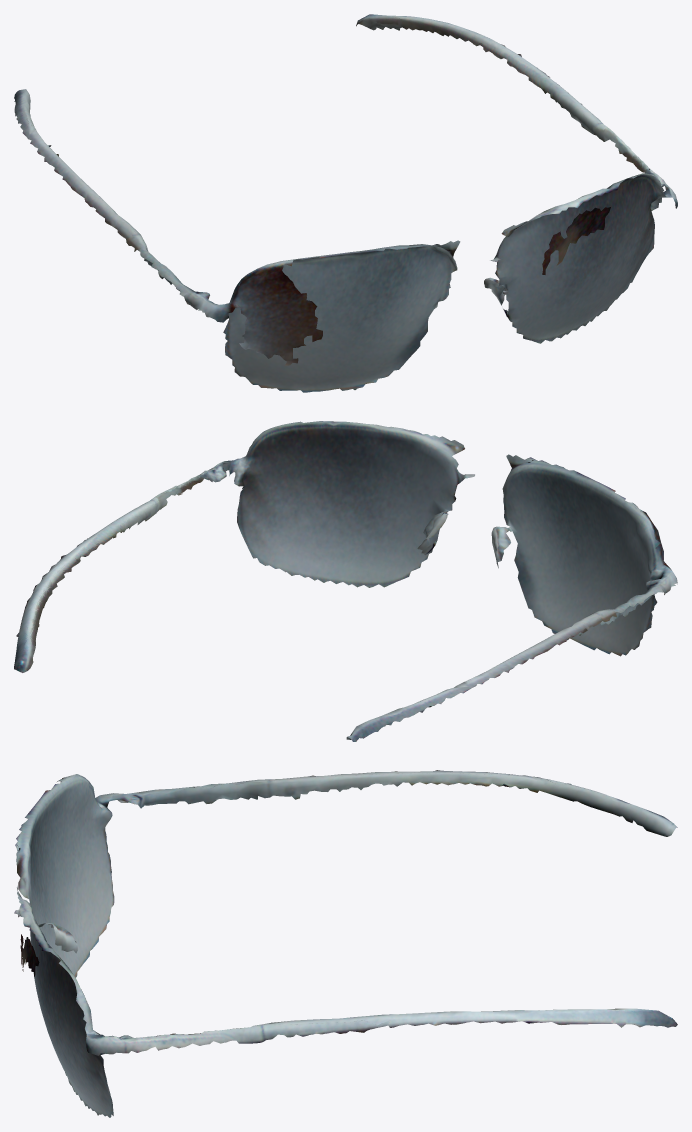
The model's file is scan_align.obj.
The picture shows the model from 3 angles, top to bottom: view 1: azimuth 30°, elevation 25°; view 2: azimuth 150°, elevation 25°; view 3: azimuth 270°, elevation 25°; orthographic projection. The views are drawn at different scales.
Size of the model in its own units: 0.1476 by 0.0455 by 0.1605.
Materials: 1 (1 with a texture image).
